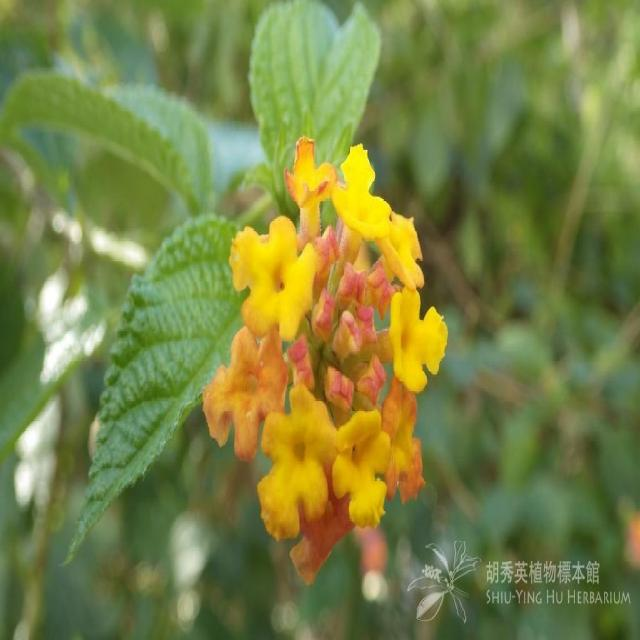organic waste: (202, 125, 444, 572)
